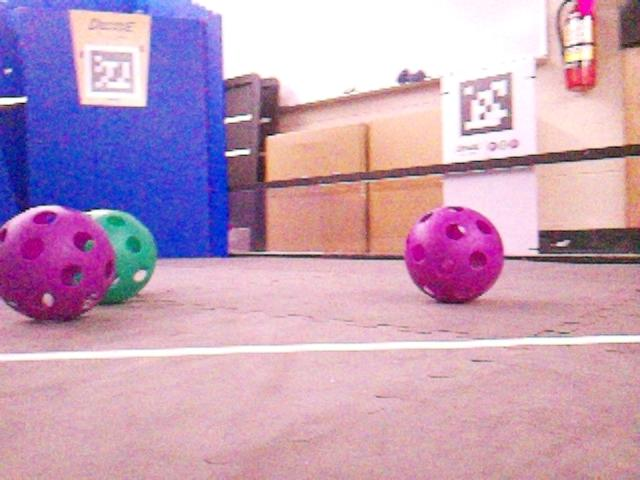Green: (85, 210, 158, 303)
Purple: (0, 203, 115, 322), (403, 206, 503, 302), (227, 222, 232, 229)
